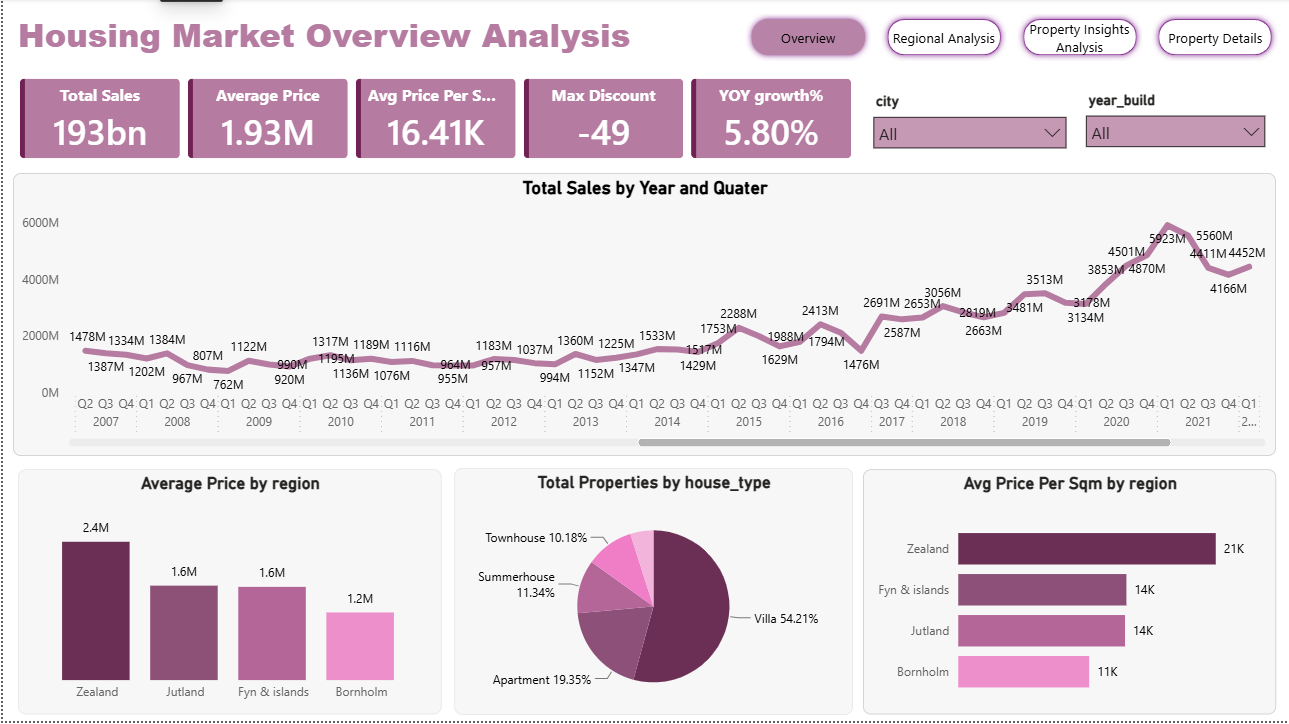

The page's visual inventory and layout, read from the dashboard file:
{"tool":"powerbi","page":{"name":"Overview","canvas":[1280,720],"ordinal":0},"visuals":[{"type":"cardVisual","fields":{"Data":["Measure Table.Total Sales","Measure Table.Average Price","Measure Table.Avg Price Per Sqm","Measure Table.Max Discount","Measure Table.YOY growth%"]},"box":[0,63.5,865.7,114],"z":0},{"type":"lineChart","fields":{"Category":["Calendar.Year","Calendar.Quater"],"Y":["Measure Table.Total Sales"]},"box":[10.1,174.6,1256.6,281.3],"z":1000},{"type":"columnChart","fields":{"Category":["Housing Data.region"],"Y":["Measure Table.Average Price"]},"box":[14.4,468.9,421.3,243.8],"z":2000},{"type":"pieChart","fields":{"Category":["Housing Data.house_type"],"Y":["Measure Table.Total Properties"]},"box":[448.7,467.5,396.8,245.3],"z":3000},{"type":"slicer","fields":{"Values":["Housing Data.city"]},"box":[855.6,89.5,212.1,64.9],"z":4000},{"type":"slicer","fields":{"Values":["Housing Data.year_build"]},"box":[1067.6,88,199.1,66.4],"z":5000},{"type":"clusteredBarChart","fields":{"Category":["Housing Data.region"],"Y":["Measure Table.Avg Price Per Sqm"]},"box":[855.6,468.9,411.2,243.8],"z":6000},{"type":"textbox","box":[10,8.7,628.2,62.2],"z":7000},{"type":"pageNavigator","box":[738.9,14.9,532.4,48.5],"z":7001}]}

Visuals, with their boxes in screenshot pixels (x1, y1, x2, y2), scaled from the page's 1280x720 canvas onto the 1289x724 screenshot:
cardVisual - Measure Table.Total Sales x Measure Table.Average Price: Rect(0, 64, 872, 178)
lineChart - Calendar.Year x Calendar.Quater: Rect(10, 176, 1276, 458)
columnChart - Housing Data.region x Measure Table.Average Price: Rect(15, 472, 439, 717)
pieChart - Housing Data.house_type x Measure Table.Total Properties: Rect(452, 470, 851, 717)
slicer - Housing Data.city: Rect(862, 90, 1075, 155)
slicer - Housing Data.year_build: Rect(1075, 88, 1276, 155)
clusteredBarChart - Housing Data.region x Measure Table.Avg Price Per Sqm: Rect(862, 472, 1276, 717)
textbox: Rect(10, 9, 643, 71)
pageNavigator: Rect(744, 15, 1280, 64)
